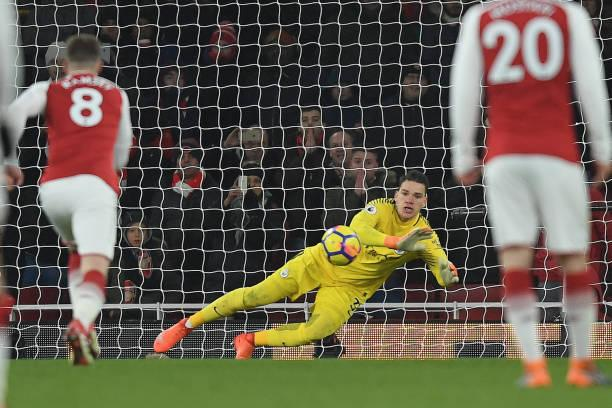Goalkeeper: (154, 171, 458, 358)
Player: (449, 0, 612, 387), (7, 33, 133, 364)
ball: (324, 226, 359, 265)
